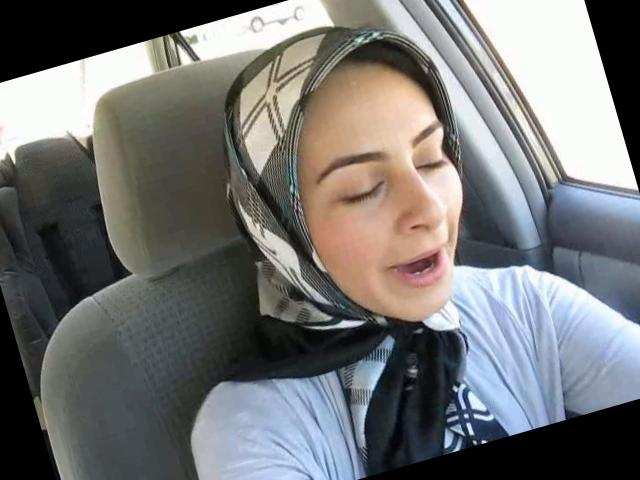eye_closed: (329, 172, 393, 214), (410, 146, 452, 182)
face: (297, 100, 497, 340)
mouth_open: (376, 236, 455, 298)
